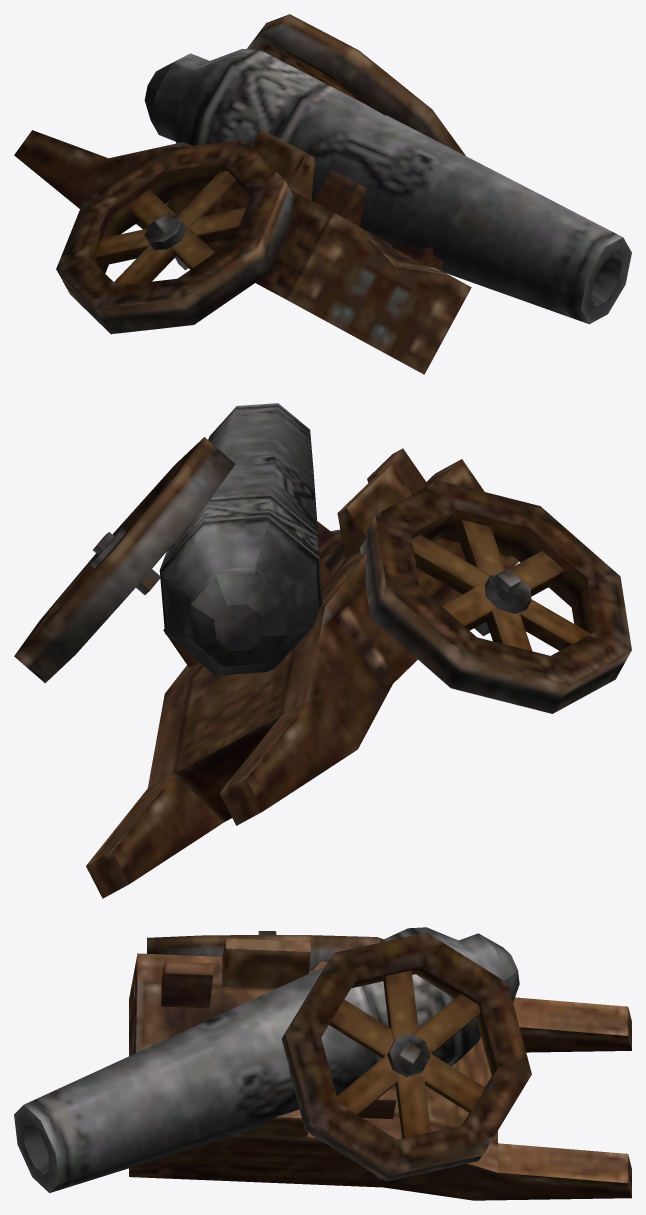
Rendered from b_general_obj_05_1.glb.
3 views of the same model, one above another, from view 1: azimuth 30°, elevation 25°; view 2: azimuth 150°, elevation 25°; view 3: azimuth 270°, elevation 25° (orthographic). The views are drawn at different scales.
Parts seen in each view (by area): view 1: Sphere01; view 2: Sphere01; view 3: Sphere01.
Part boxes in pixels (left/top/right/bottom): Sphere01: left=14, top=14, right=631, bottom=374; Sphere01: left=14, top=403, right=631, bottom=898; Sphere01: left=14, top=927, right=631, bottom=1200.
Bounding box in the file's own units: 2.55 × 1.55 × 3.02.
Materials: 1 (1 with a texture image).
